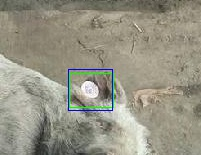text: (69, 73, 113, 107)
